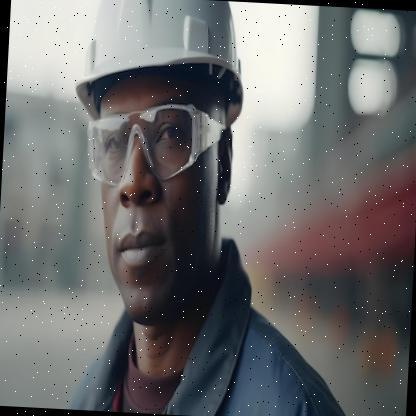oculos: (85, 99, 206, 194)
